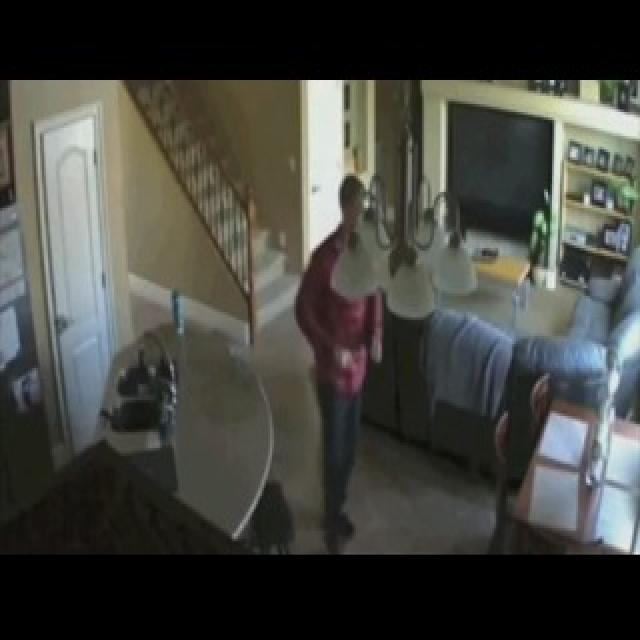thief: (318, 165, 370, 316)
